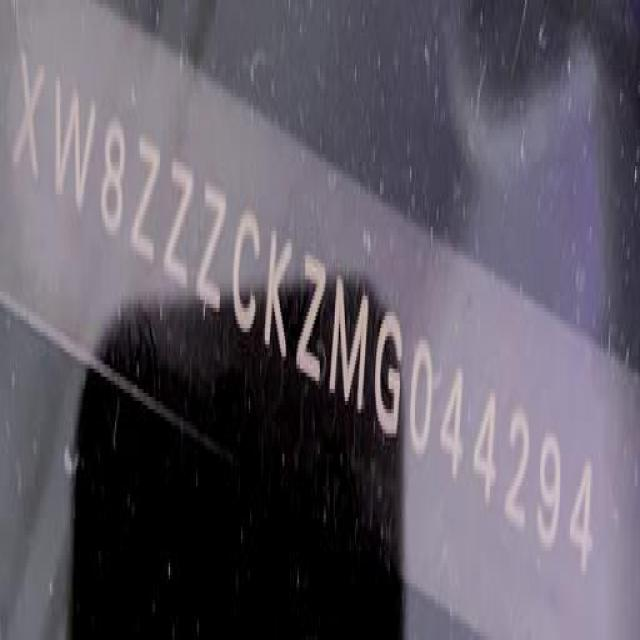0: (406, 329, 438, 462)
2: (504, 403, 535, 540)
4: (470, 376, 500, 511), (566, 448, 597, 572), (436, 370, 464, 484)
8: (96, 111, 130, 244)
9: (534, 422, 566, 558)
C: (229, 207, 263, 344)
G: (371, 296, 407, 445)
K: (262, 221, 296, 368)
M: (327, 273, 369, 413)
W: (47, 71, 99, 227)
X: (12, 41, 52, 203)
Z: (296, 244, 330, 396), (161, 153, 196, 295), (128, 130, 163, 270), (197, 178, 230, 319)
